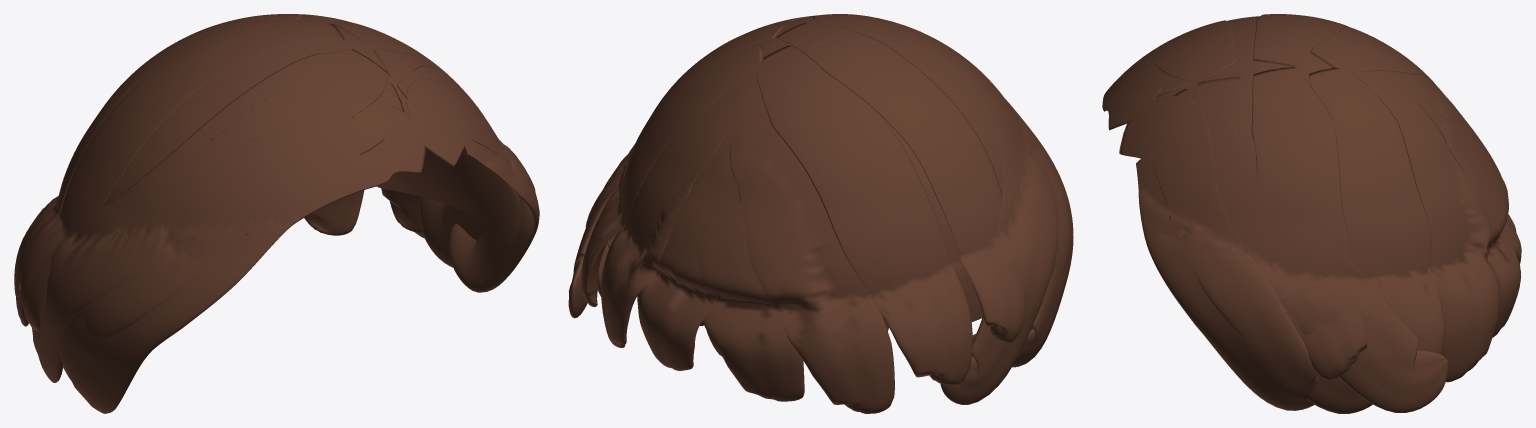
Rendered from flow-cap-default.glb.
The picture shows the model from 3 angles, left to right: view 1: azimuth 30°, elevation 25°; view 2: azimuth 150°, elevation 25°; view 3: azimuth 270°, elevation 25°; orthographic projection. The views are drawn at different scales.
Parts seen in each view (by area): view 1: 226 hair / Hair260 / layered flow; view 2: 226 hair / Hair260 / layered flow; view 3: 226 hair / Hair260 / layered flow.
Part boxes in pixels (box(x1,y1,x2,y2)): 226 hair / Hair260 / layered flow: box(14, 14, 539, 413); 226 hair / Hair260 / layered flow: box(568, 14, 1073, 413); 226 hair / Hair260 / layered flow: box(1102, 14, 1521, 413).
Bounding box in the file's own units: 0.8859 × 0.5939 × 0.7458.
